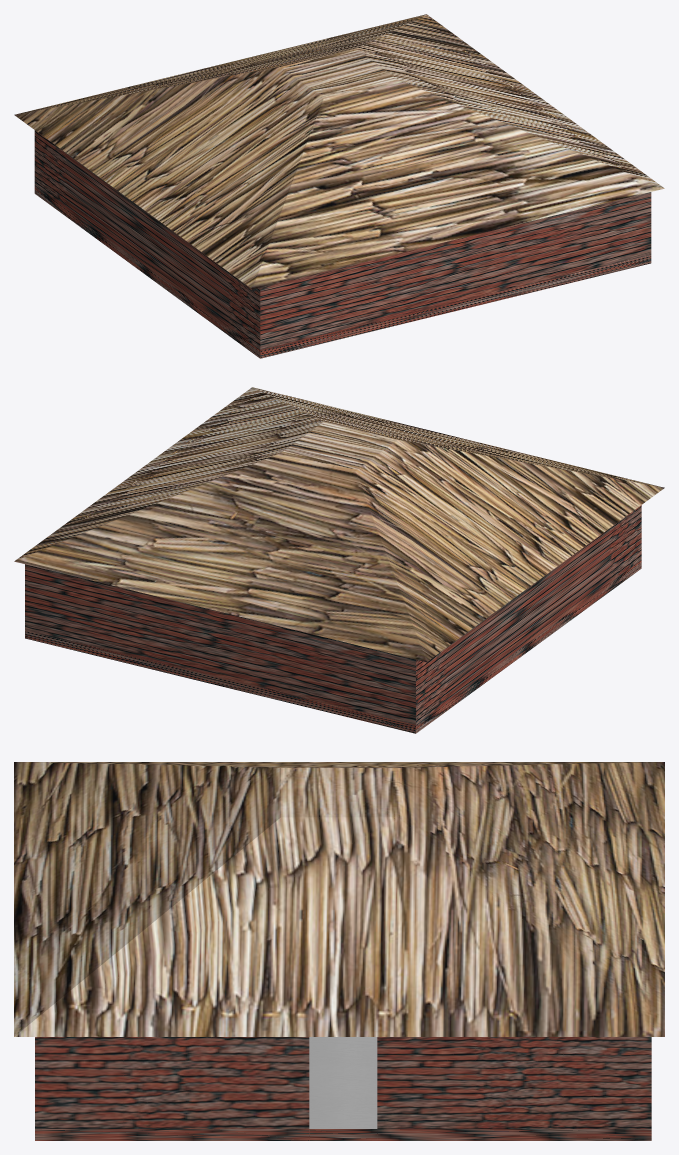
Rendered from Cottage.fbx.
3 views of the same model, one above another, from view 1: azimuth 30°, elevation 25°; view 2: azimuth 150°, elevation 25°; view 3: azimuth 270°, elevation 25° (orthographic). The views are drawn at different scales.
Visible parts, largest first — view 1: Cottage; view 2: Cottage; view 3: Cottage.
Boxes of the visible parts, box(x1,y1,x2,y2) form: Cottage: box(14, 14, 664, 358); Cottage: box(14, 387, 664, 733); Cottage: box(14, 762, 664, 1140).
Size of the model in its own units: 9714 by 3537 by 9714.
